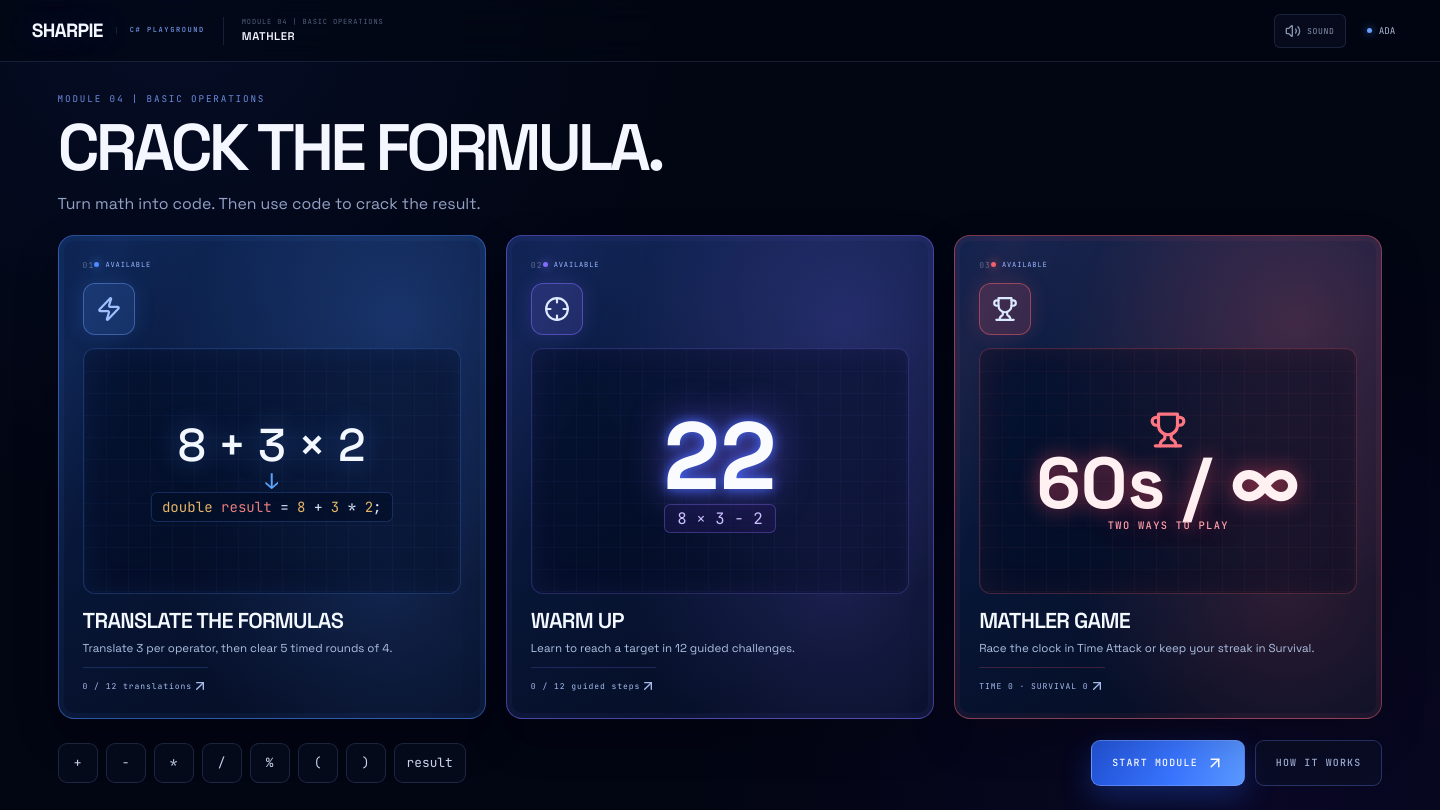
Scenario: BasicOperations module intro › colors the Mathler editor with the WriteLine syntax palette
The image size is (1440, 810).
Click the button "START MODULE" at (1168, 763), box [1091,740,1245,786]
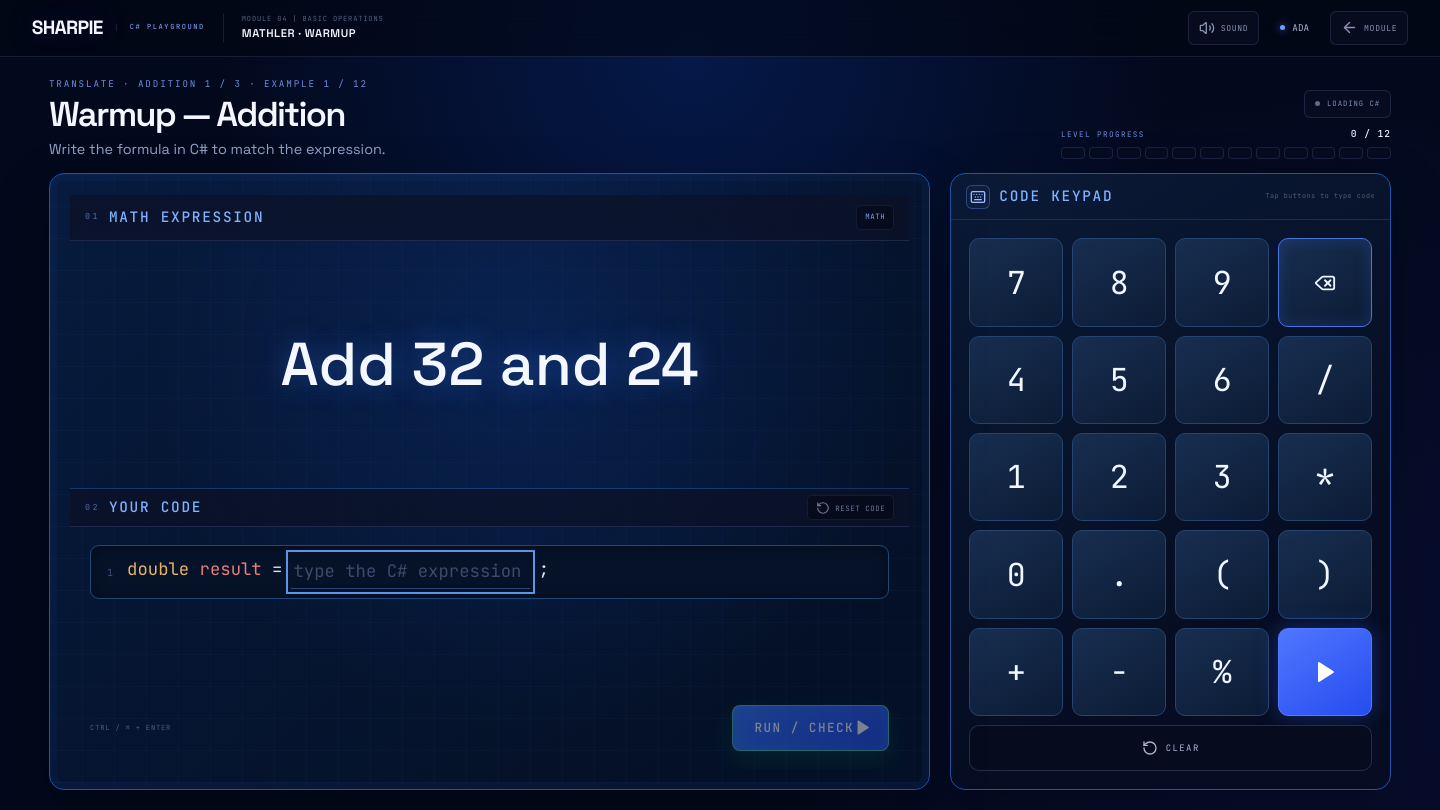
Expected: the text with class "syn-type" reads "double", [127,558,189,581]
Expected: the text with class "syn-variable" reads "result", [200,558,262,581]
Type "7 + 3" into the field named "C# expression after double result" at (411, 572), box [292,555,530,589]
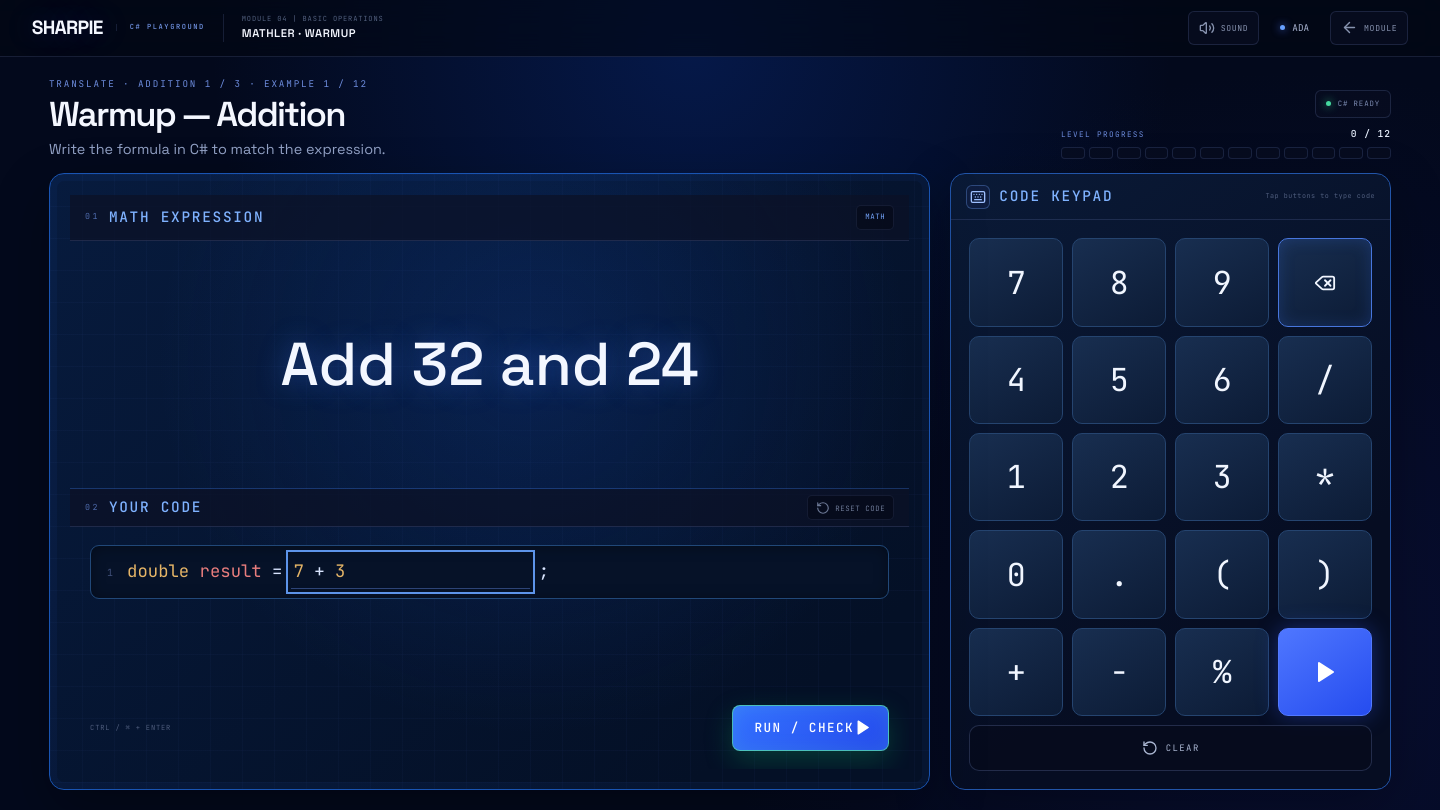
Expected: the element with class "bo-code-mirror" reads "7 + 3", [294,560,345,583]
Expected: the text with class "syn-number" reads "7", [294,560,304,583]
